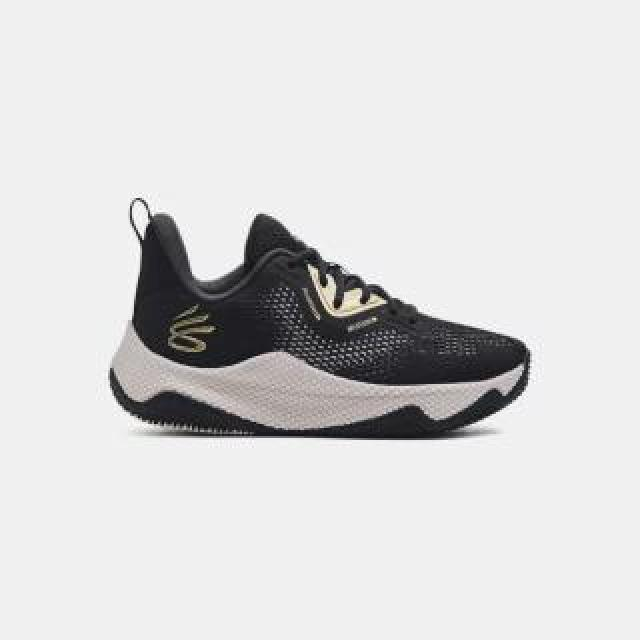shoe: (100, 194, 537, 440), (108, 203, 532, 435)
